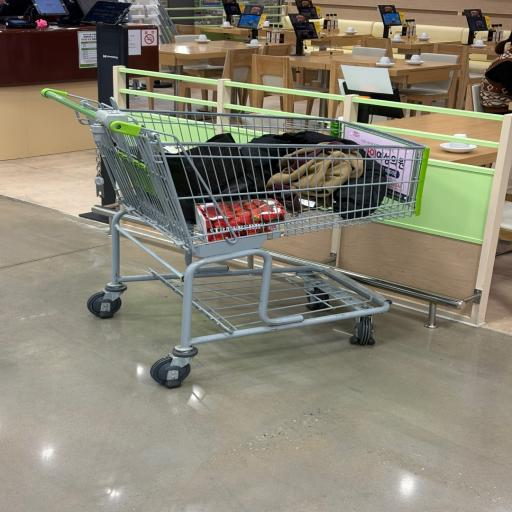fully_cart: (34, 82, 432, 395)
